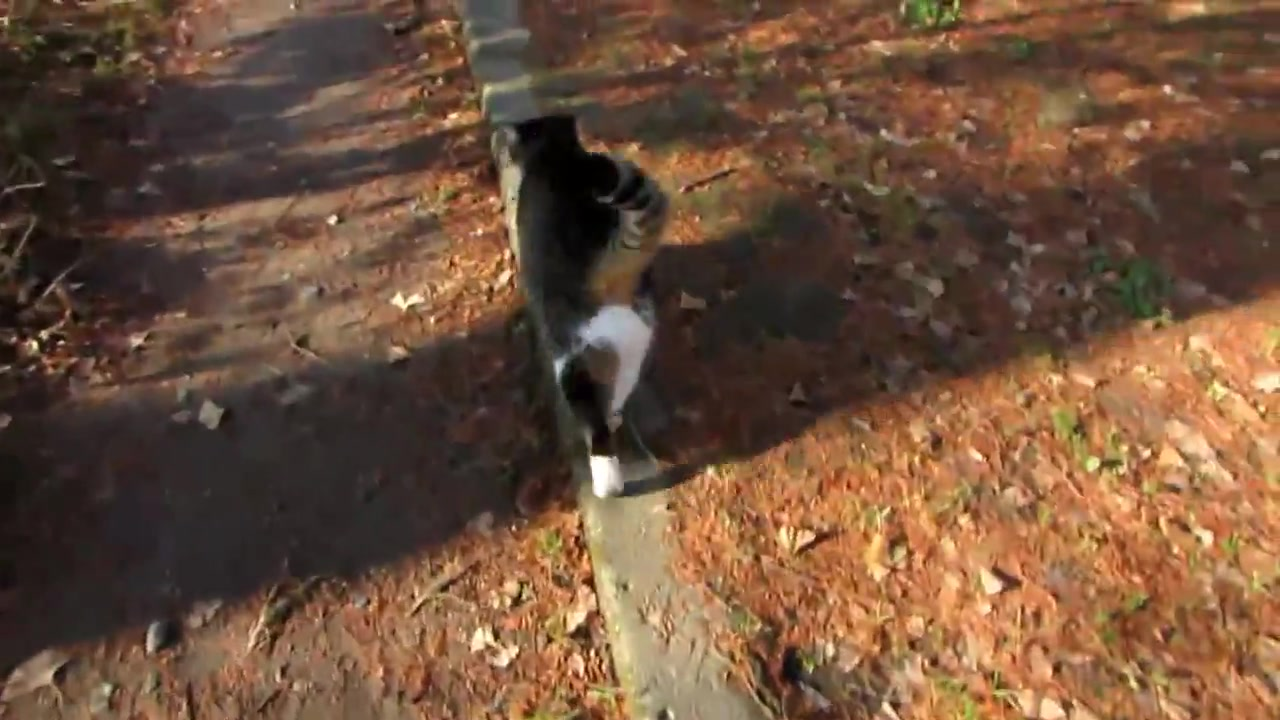cat: (492, 109, 674, 500)
